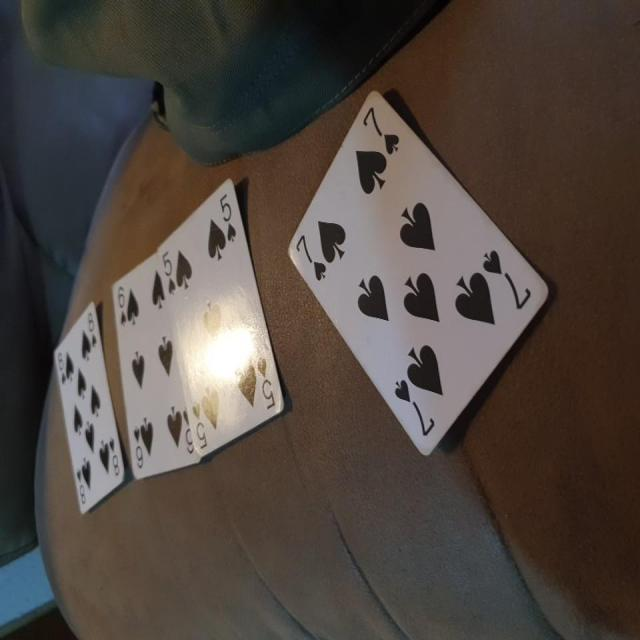5 Spades: (145, 172, 289, 473)
6 Spades: (93, 242, 208, 490)
7 Spades: (290, 70, 560, 478)
8 Spades: (47, 297, 130, 524)
